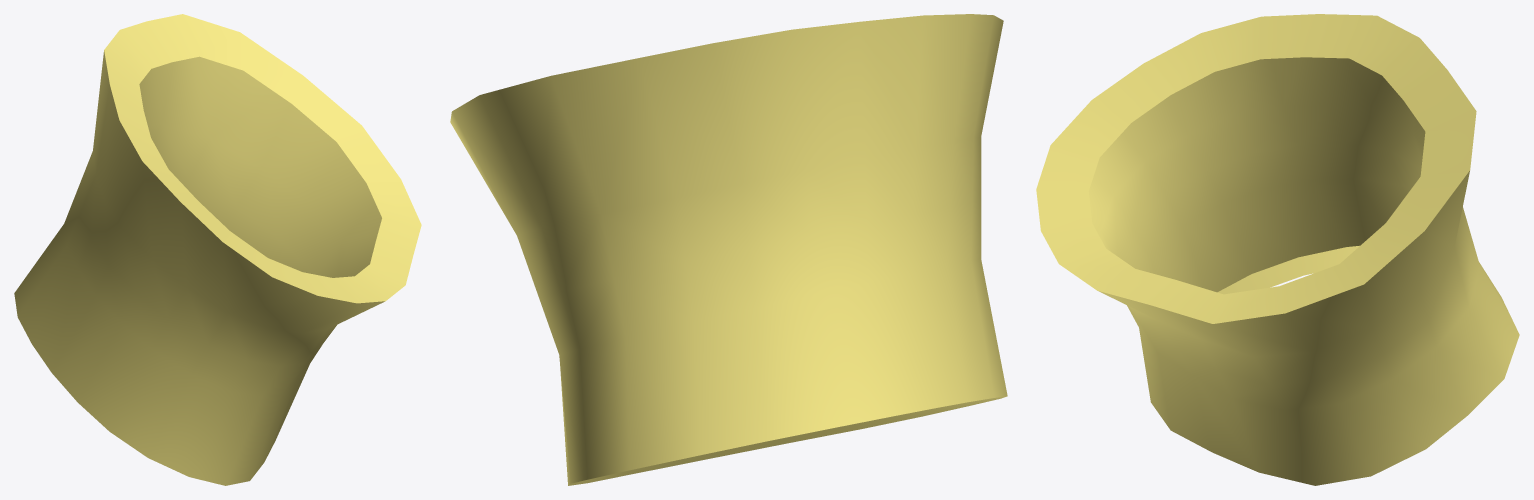
The model's file is bracelet 1.fbx.
3 views of the same model, side by side, from view 1: azimuth 30°, elevation 25°; view 2: azimuth 150°, elevation 25°; view 3: azimuth 270°, elevation 25° (orthographic). The views are drawn at different scales.
Parts seen in each view (by area): view 1: bracelet; view 2: bracelet; view 3: bracelet.
Boxes of the visible parts, box(x1,y1,x2,y2) form: bracelet: box(14, 14, 421, 485); bracelet: box(450, 14, 1007, 485); bracelet: box(1036, 14, 1519, 485).
Bounding box in the file's own units: 3.38 × 3.56 × 3.92.
